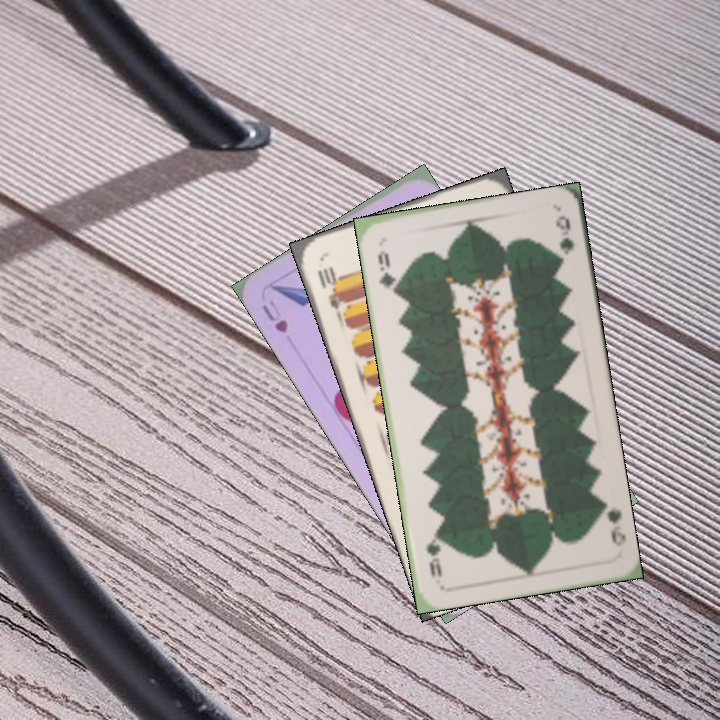E10: (313, 262, 346, 312)
G9: (597, 497, 629, 549), (373, 246, 400, 297)
HU: (258, 296, 291, 336)
